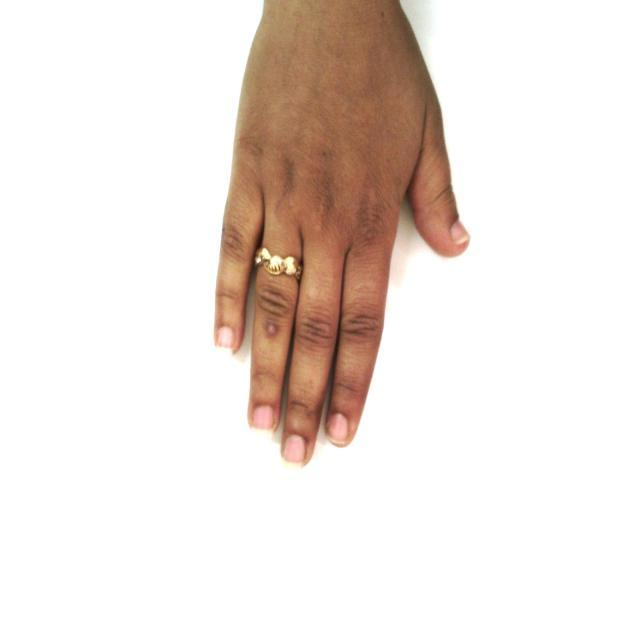Fingernail: (282, 435, 305, 469), (249, 406, 274, 435), (328, 414, 348, 443), (216, 328, 235, 356), (451, 222, 468, 244)
